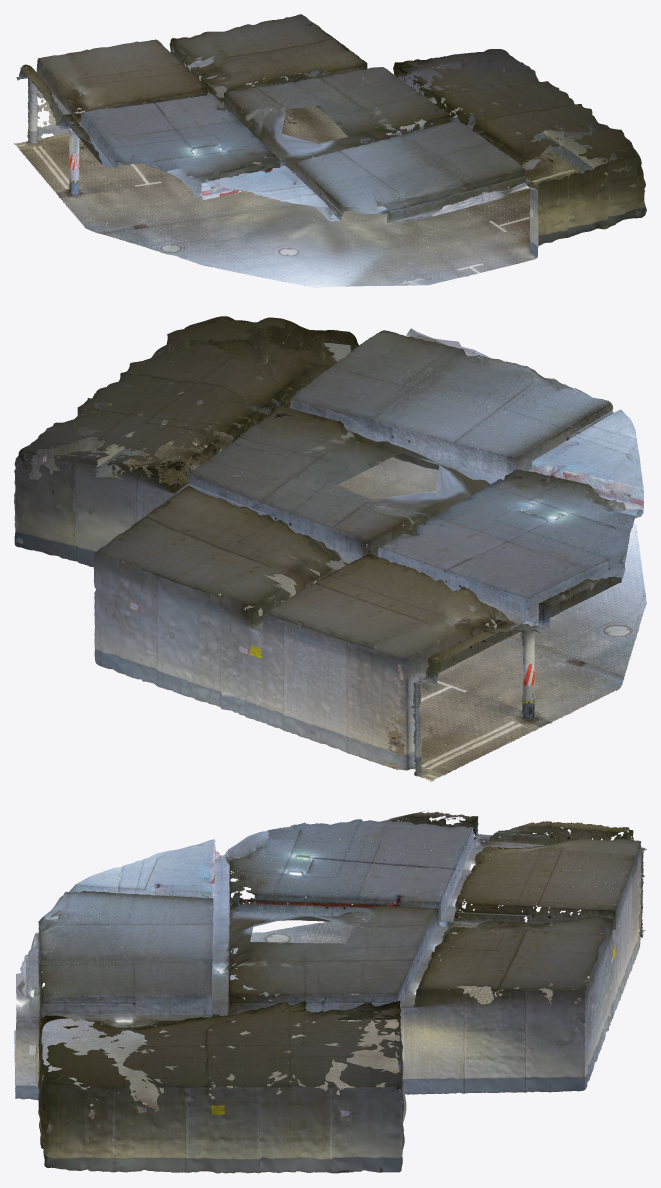
File: garage.glb
3 views of the same model, one above another, from view 1: azimuth 30°, elevation 25°; view 2: azimuth 150°, elevation 25°; view 3: azimuth 270°, elevation 25° (orthographic). The views are drawn at different scales.
Visible parts, largest first — view 1: Object_4, Object_6, Object_7, Object_2, Object_3, Object_8, Object_5, Object_9; view 2: Object_6, Object_7, Object_3, Object_4, Object_2, Object_8, Object_5, Object_9; view 3: Object_2, Object_4, Object_6, Object_7, Object_3, Object_8, Object_5, Object_9.
Part boxes in pixels (x1=…): Object_4: x1=27, y1=19, x2=644, y2=285; Object_6: x1=16, y1=16, x2=645, y2=285; Object_7: x1=21, y1=24, x2=645, y2=281; Object_2: x1=14, y1=14, x2=644, y2=287; Object_3: x1=23, y1=14, x2=609, y2=276; Object_8: x1=23, y1=21, x2=646, y2=283; Object_5: x1=16, y1=17, x2=643, y2=285; Object_9: x1=21, y1=27, x2=644, y2=285; Object_6: x1=45, y1=316, x2=645, y2=770; Object_7: x1=14, y1=330, x2=645, y2=763; Object_3: x1=14, y1=330, x2=630, y2=754; Object_4: x1=14, y1=317, x2=645, y2=773; Object_2: x1=51, y1=316, x2=646, y2=781; Object_8: x1=14, y1=316, x2=642, y2=767; Object_5: x1=14, y1=317, x2=645, y2=779; Object_9: x1=14, y1=321, x2=646, y2=767; Object_2: x1=14, y1=812, x2=645, y2=1173; Object_4: x1=21, y1=815, x2=641, y2=1173; Object_6: x1=14, y1=811, x2=646, y2=1172; Object_7: x1=24, y1=816, x2=641, y2=1173; Object_3: x1=22, y1=815, x2=640, y2=1173; Object_8: x1=15, y1=813, x2=636, y2=1173; Object_5: x1=15, y1=814, x2=643, y2=1173; Object_9: x1=14, y1=812, x2=642, y2=1173.
Size of the model in its own units: 16.78 by 3.3 by 16.89.
2 materials, 2 textured.
